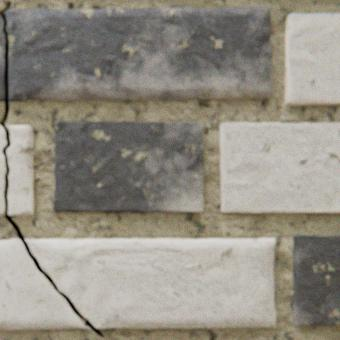brick: (54, 121, 202, 212), (219, 123, 339, 213), (284, 15, 339, 106), (291, 235, 339, 325)
broken_brick: (6, 8, 270, 102), (26, 238, 274, 328), (0, 239, 90, 329), (6, 125, 34, 215), (0, 126, 6, 216), (0, 11, 5, 101)
crack: (0, 1, 103, 338)
